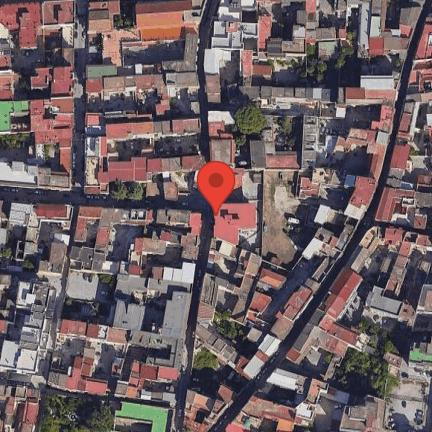area_open: (314, 119, 368, 172), (10, 29, 69, 73), (9, 29, 69, 71), (141, 284, 186, 331), (118, 347, 168, 381), (67, 286, 113, 321), (122, 39, 183, 64), (404, 253, 432, 300), (279, 258, 320, 289), (141, 242, 179, 275), (36, 221, 67, 258), (0, 147, 60, 166), (92, 343, 117, 384), (130, 138, 198, 153), (110, 226, 137, 256), (58, 338, 83, 370), (90, 99, 138, 112), (379, 4, 401, 29), (225, 371, 246, 394), (223, 57, 240, 85), (87, 38, 104, 64), (397, 321, 409, 357), (9, 112, 31, 128), (146, 96, 158, 110)
built: (196, 224, 358, 382), (203, 0, 428, 100), (285, 225, 432, 368), (208, 110, 299, 323), (45, 293, 191, 398), (300, 88, 399, 233), (85, 0, 206, 114), (373, 12, 432, 230), (84, 112, 205, 200), (341, 339, 432, 432), (0, 0, 75, 97), (0, 96, 73, 190), (119, 210, 204, 284), (0, 276, 58, 380), (362, 249, 432, 332), (69, 206, 151, 275), (0, 200, 75, 274), (111, 364, 179, 431), (228, 76, 330, 110), (224, 393, 300, 432), (295, 379, 350, 430), (182, 386, 235, 432), (0, 384, 40, 432), (268, 367, 307, 395), (362, 70, 401, 89)
vegetation_low: (332, 318, 398, 400), (275, 26, 355, 80), (37, 392, 117, 432), (233, 101, 266, 148), (212, 309, 241, 346), (192, 344, 218, 381), (276, 116, 302, 150), (111, 183, 147, 201), (348, 56, 386, 73), (0, 134, 31, 147), (118, 2, 133, 26), (65, 298, 100, 308), (13, 80, 28, 97), (99, 275, 116, 285)
